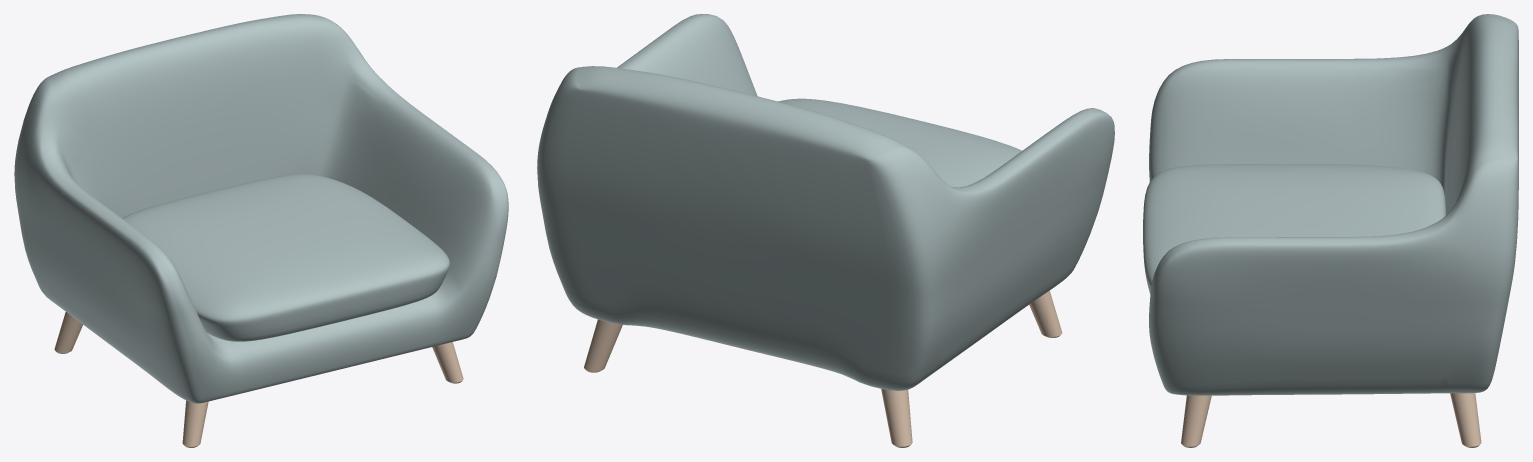
File: 731_sofa_1seat.glb
3 views of the same model, side by side, from view 1: azimuth 30°, elevation 25°; view 2: azimuth 150°, elevation 25°; view 3: azimuth 270°, elevation 25° (orthographic). The views are drawn at different scales.
Parts seen in each view (by area): view 1: Body; view 2: Body; view 3: Body.
Boxes of the visible parts, x1=… form: Body: x1=14, y1=14, x2=508, y2=447; Body: x1=537, y1=14, x2=1114, y2=447; Body: x1=1143, y1=14, x2=1518, y2=447.
Bounding box in the file's own units: 1.03 × 0.7632 × 0.8651.
